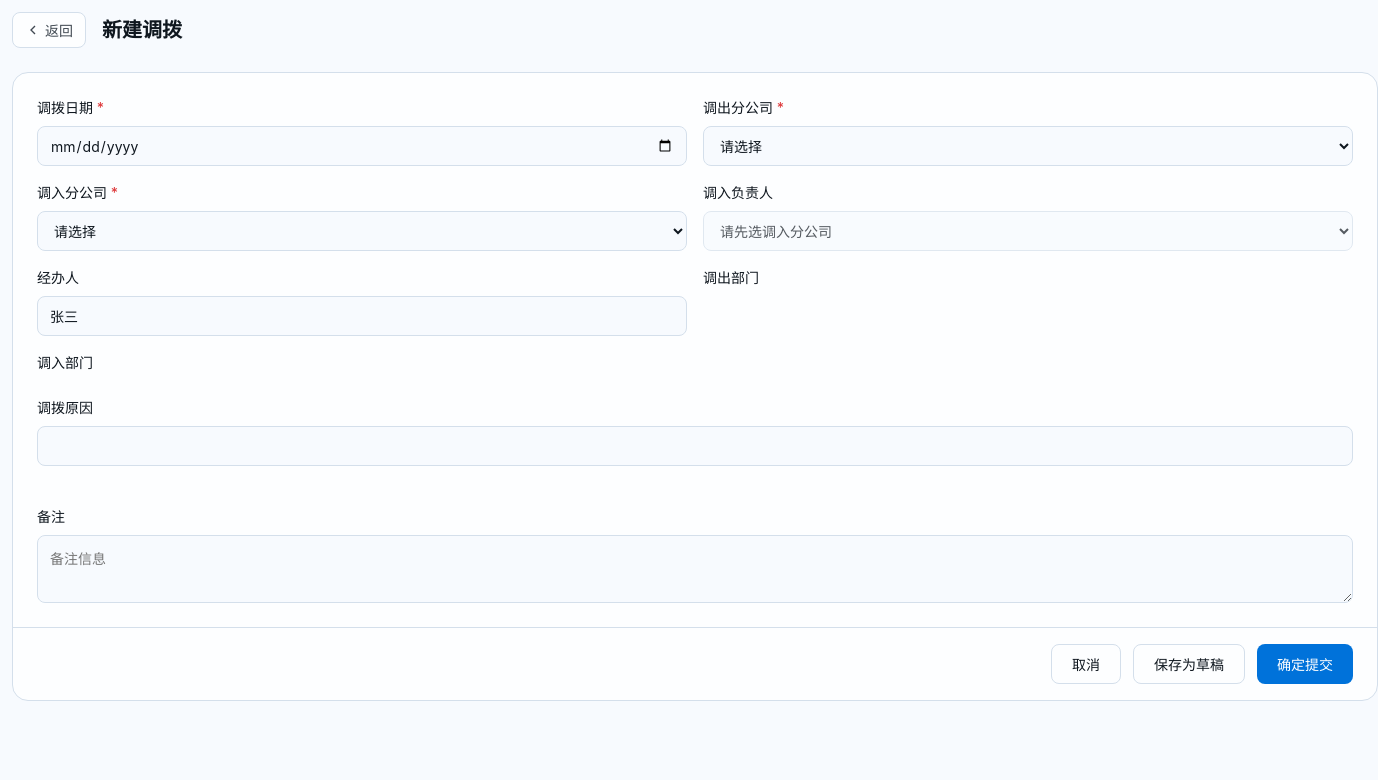
Test: transfer-responsible-unify：调入负责人按调入分公司员工纯下拉 › 选定调入分公司后拉取该公司员工为选项
Select "北京分公司" in the dropdown with class "form-select" below "调出分公司" at x=1028, y=146, box [703,126,1353,166]
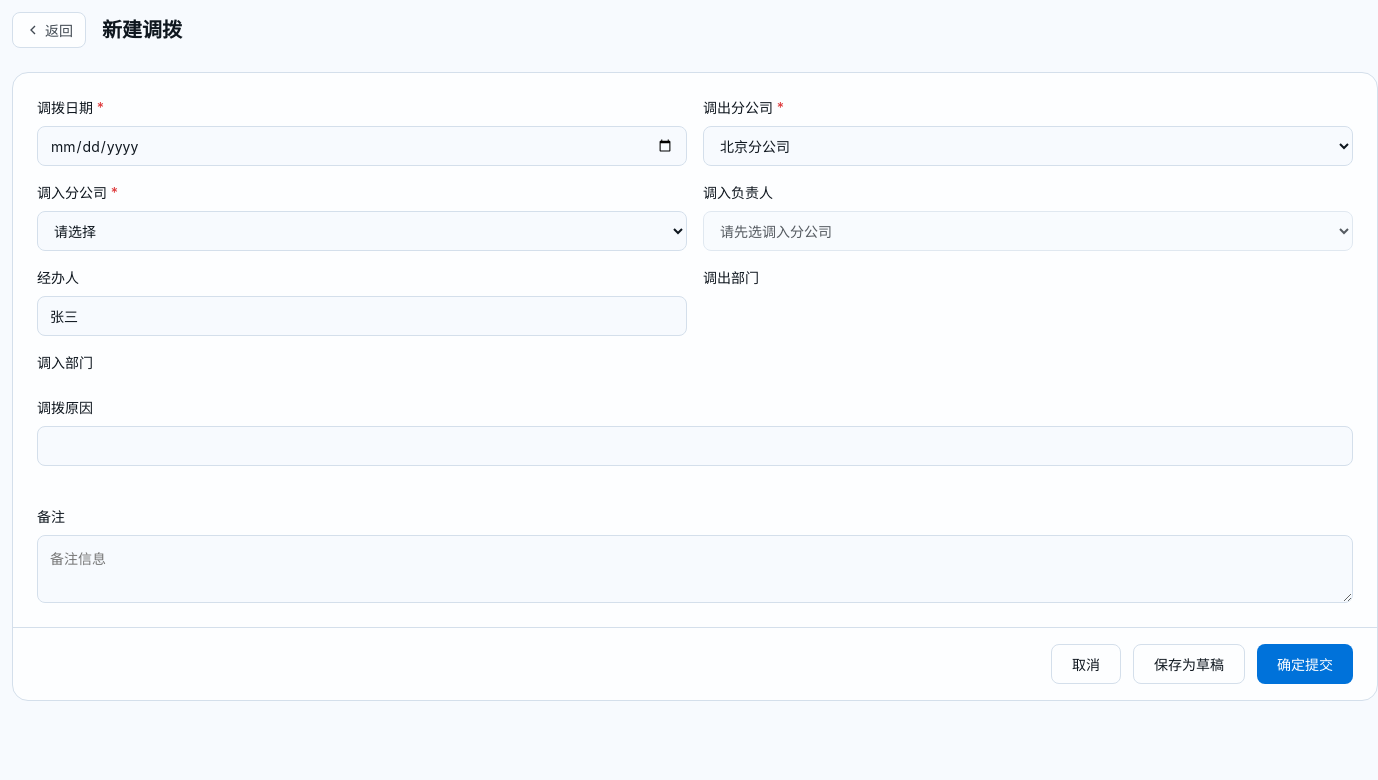
Select "上海分公司" in the dropdown with class "form-select" below "调入分公司" at x=362, y=231, box [37,211,687,251]
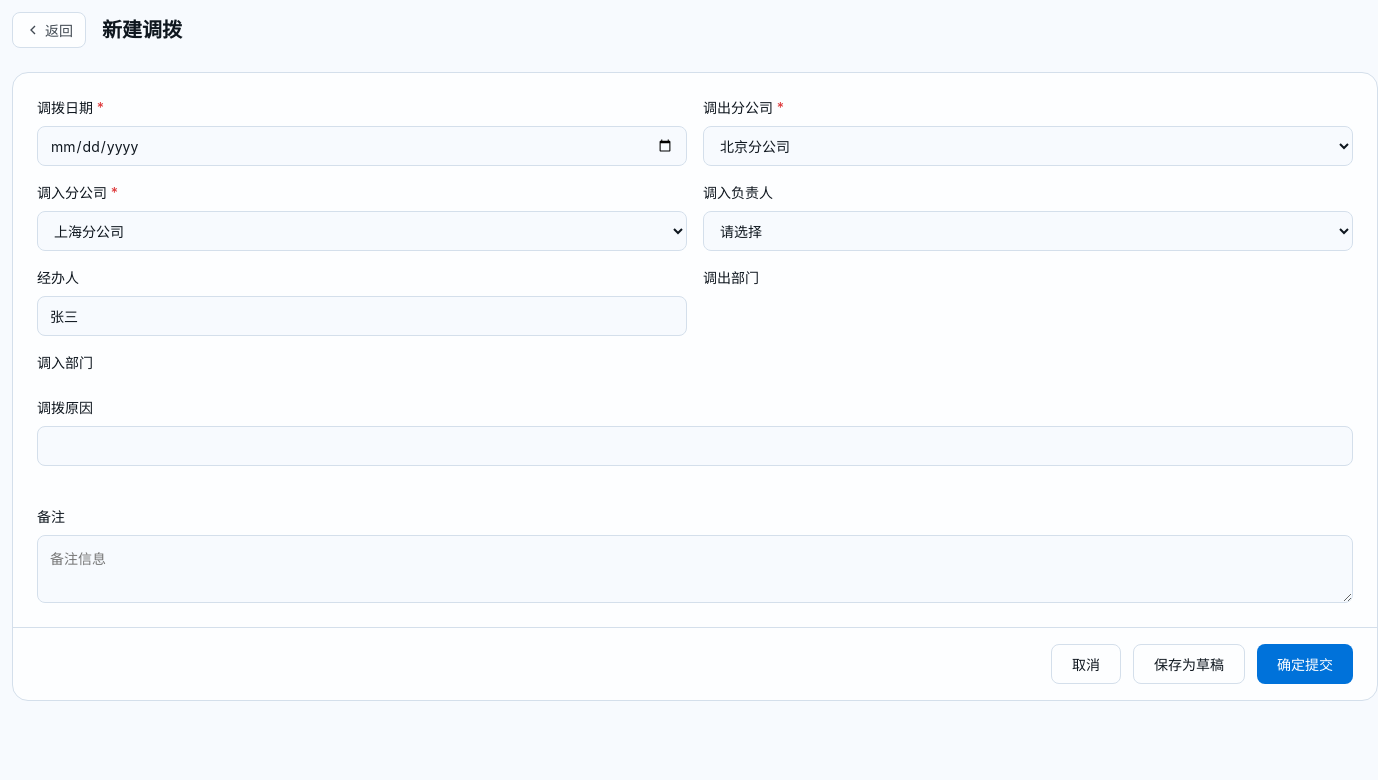
Expected: the dropdown with class "form-select" below "调入负责人" is enabled, [703,211,1353,251]
